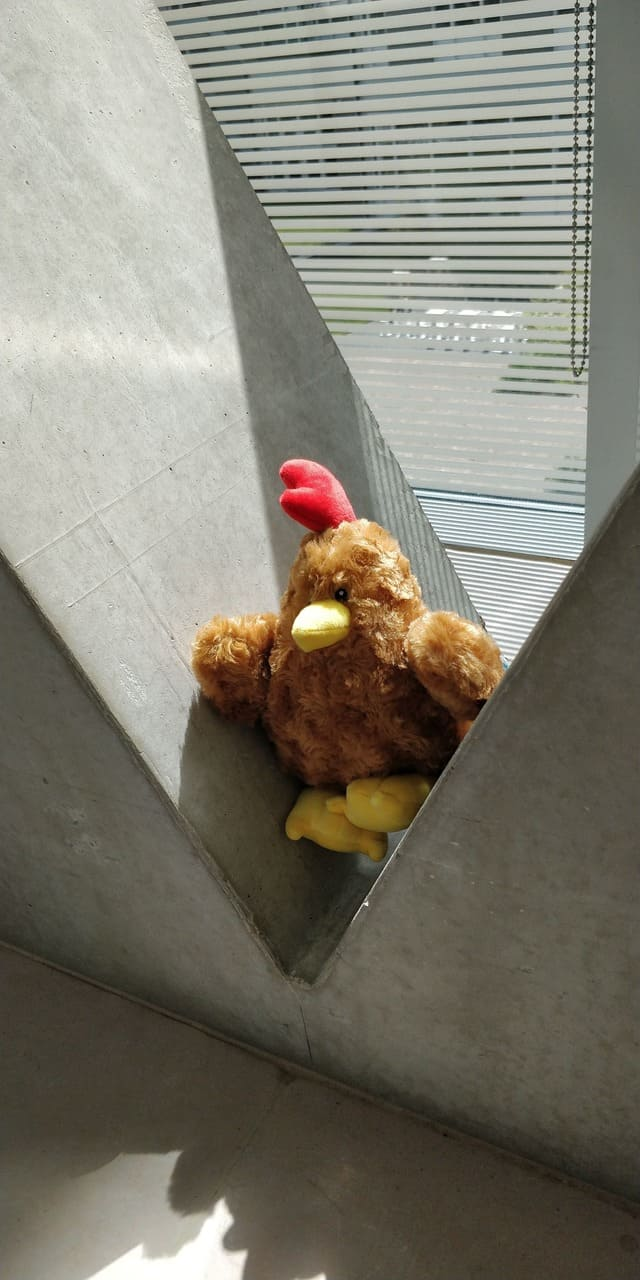fakeChicken: (190, 460, 507, 860)
